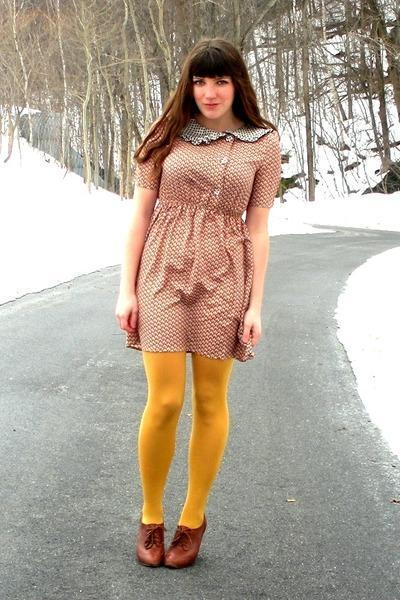dress: (121, 114, 289, 371)
shoe: (132, 514, 206, 569)
